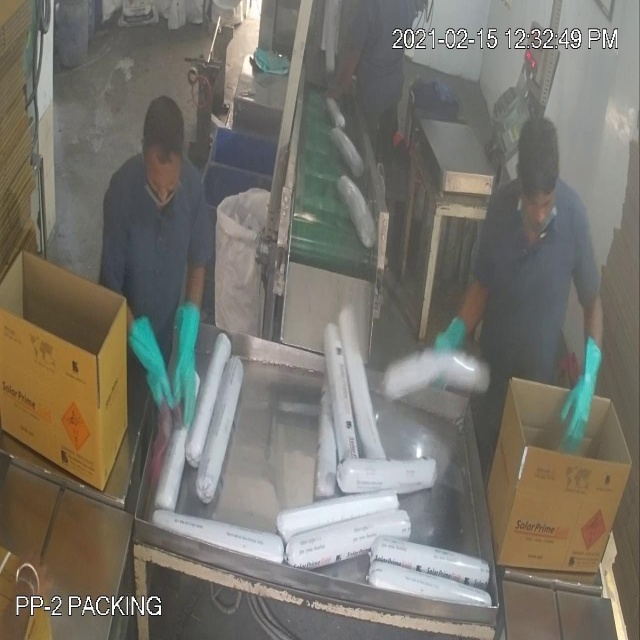Guantes: (123, 300, 178, 421), (558, 339, 613, 460), (165, 289, 204, 428)
Sin_guantes: (327, 44, 374, 107)
